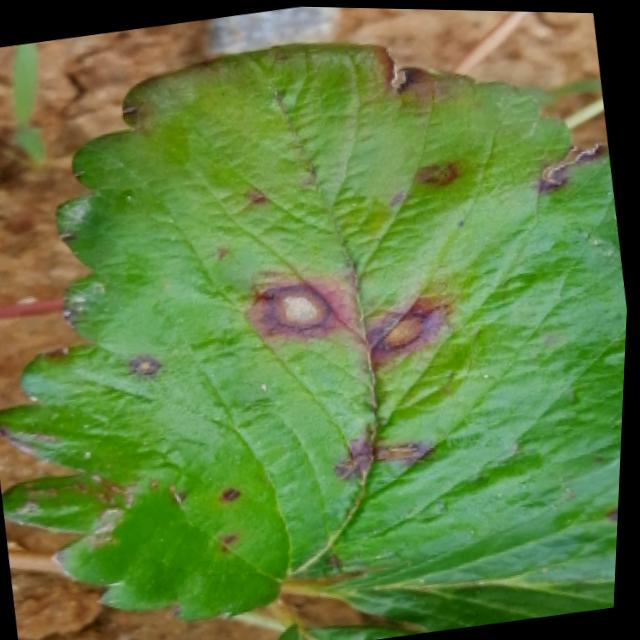Leaf Spot: (0, 38, 630, 627), (320, 457, 624, 632)
